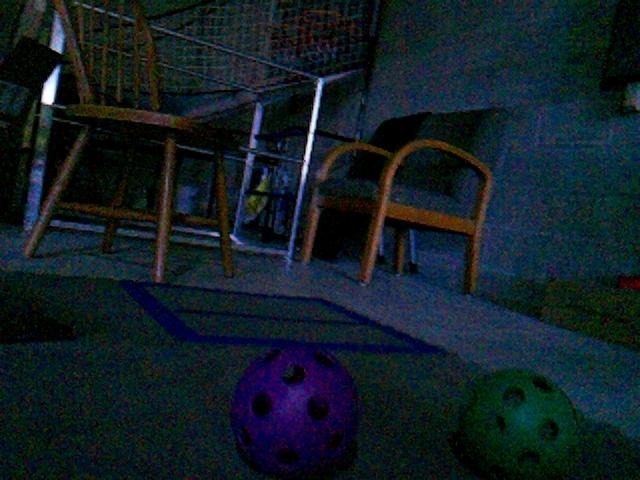Green: (453, 366, 586, 478)
Purple: (228, 344, 362, 477)
